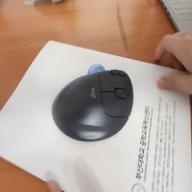mouse: (51, 64, 133, 142)
